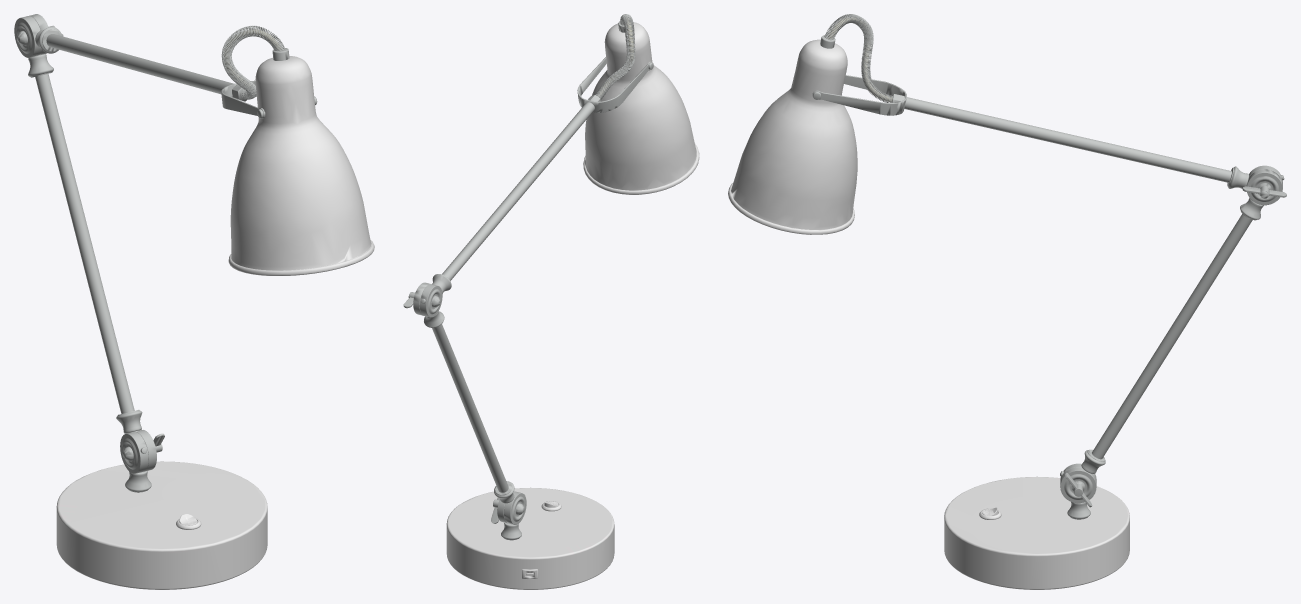
File: B07PZCRS6F.glb
3 renders of one model, left to right at view 1: azimuth 30°, elevation 25°; view 2: azimuth 150°, elevation 25°; view 3: azimuth 270°, elevation 25°, orthographic. The views are drawn at different scales.
Visible parts, largest first — view 1: RootNode; view 2: RootNode; view 3: RootNode.
Boxes of the visible parts, bbox=[...] form: RootNode: bbox=[14, 14, 374, 589]; RootNode: bbox=[403, 14, 699, 589]; RootNode: bbox=[728, 14, 1286, 589].
Size of the model in its own units: 0.1865 by 0.5871 by 0.561.
Materials: 1 (1 with a texture image).
